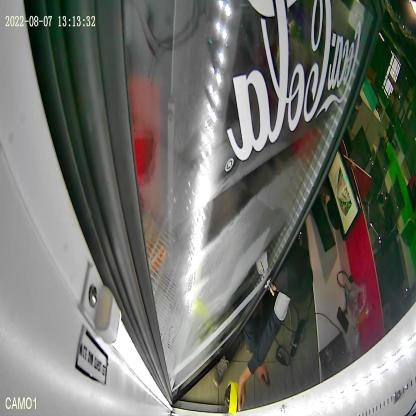yellow: (224, 380, 242, 414)
